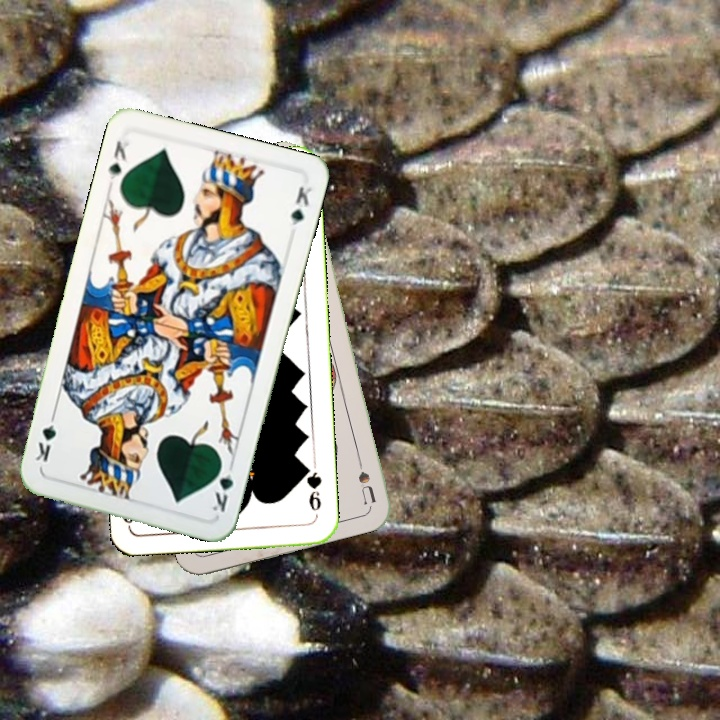G9: (300, 461, 324, 514)
GK: (208, 457, 236, 515), (104, 136, 132, 189)
SU: (352, 447, 380, 506)
